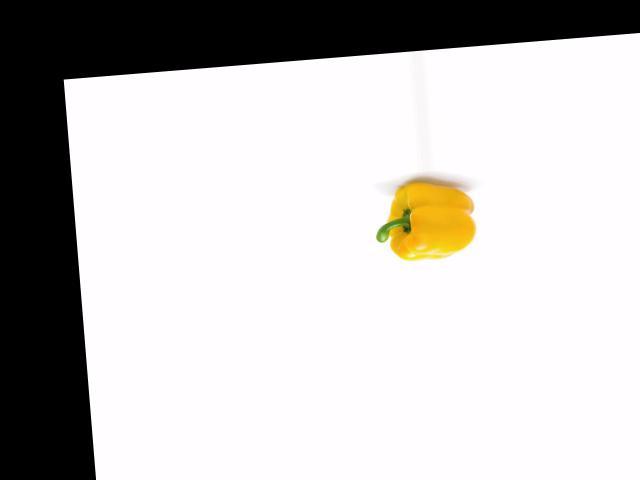bell_pepper: (363, 177, 481, 268)
